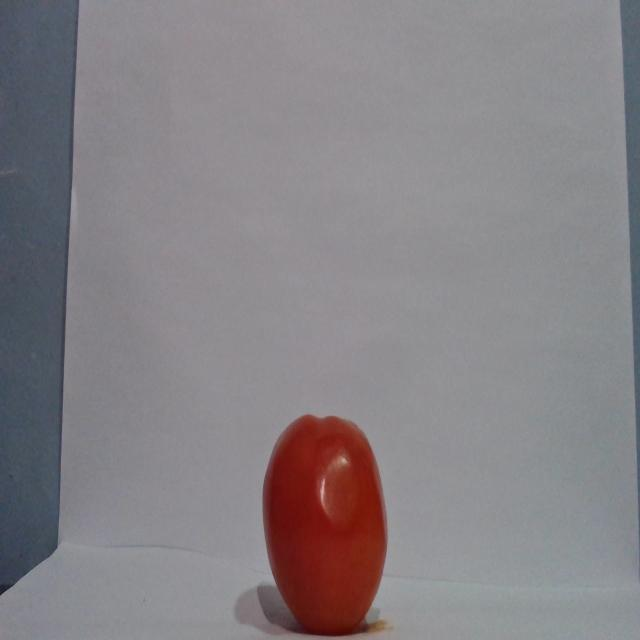Red: (260, 412, 388, 634)
